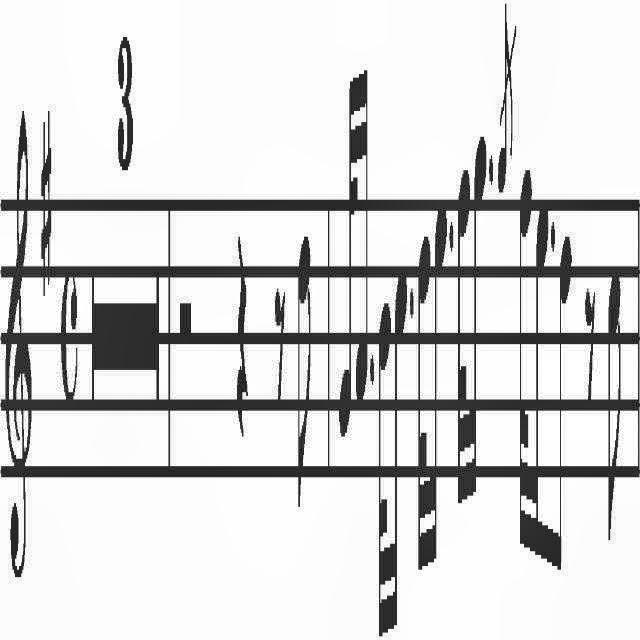Bass-clef: (1, 98, 38, 614)
Diez: (38, 96, 56, 320)
Eighth-note: (604, 257, 628, 571), (296, 214, 316, 508), (558, 221, 574, 584)
Eighth-rest: (272, 257, 288, 433), (583, 254, 597, 433)
Quarter-rest: (232, 214, 255, 486)
Sixteenth-note: (391, 254, 409, 618), (534, 178, 550, 574), (354, 58, 370, 430), (472, 128, 488, 498), (434, 180, 446, 588)
